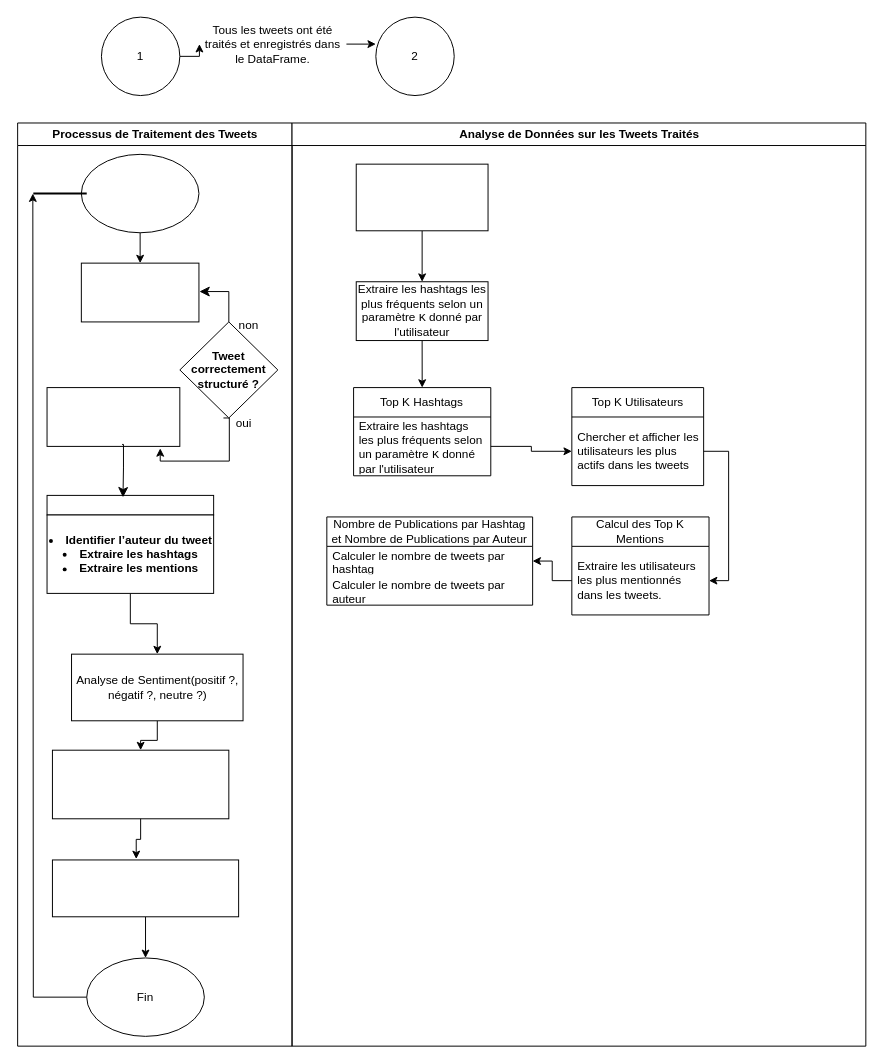
This 883x1063 diagram has some shape labels left out. Here are the shapes that lost their labels. From the top down, the centre of each, then its label:
At (139,193): "Début".
At (421,197): "Démarrer l'analyse des données".
At (139,292): "Lire un tweet depuis la zone d'atterrissage .".
At (113,416): "Nettoyage du tweet".
At (130,504): "Extraction des Données".
At (140,784): "Identification des topics pour attribuer des sujets au tweet.".
At (145,888): "Enregistrer le tweet traité dans le DataFrame .".
